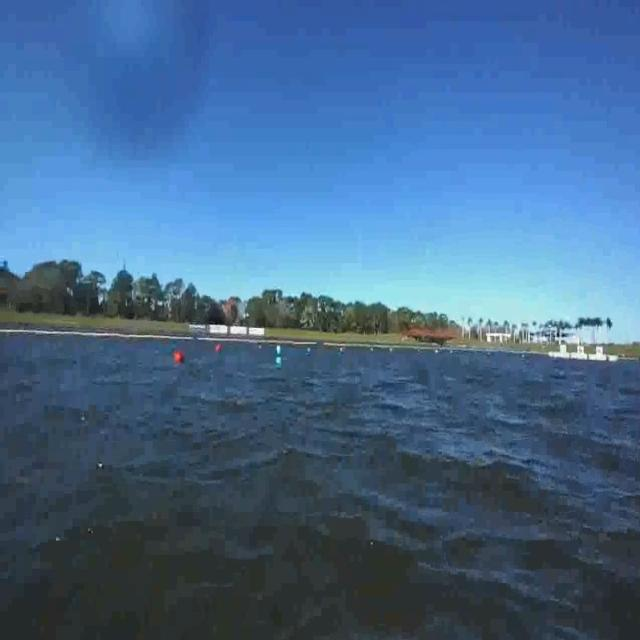green-buoy: (272, 354, 284, 369)
red-buoy: (175, 351, 183, 364), (216, 344, 222, 353)
